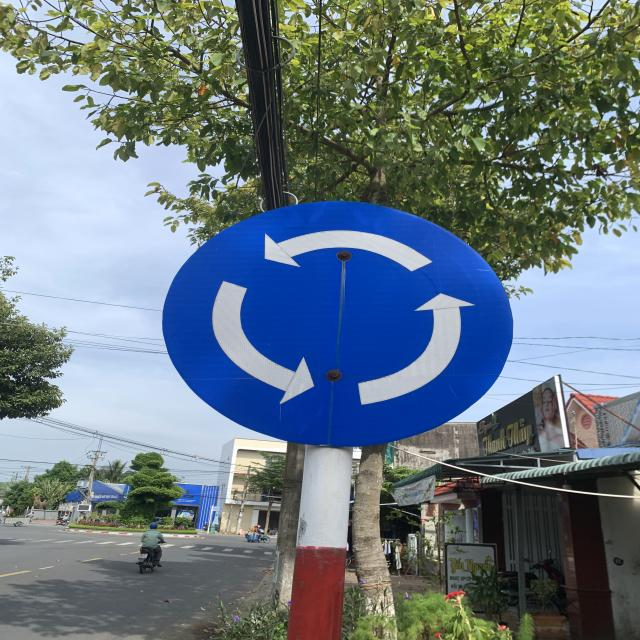Xe_Bus: (162, 199, 514, 449)
